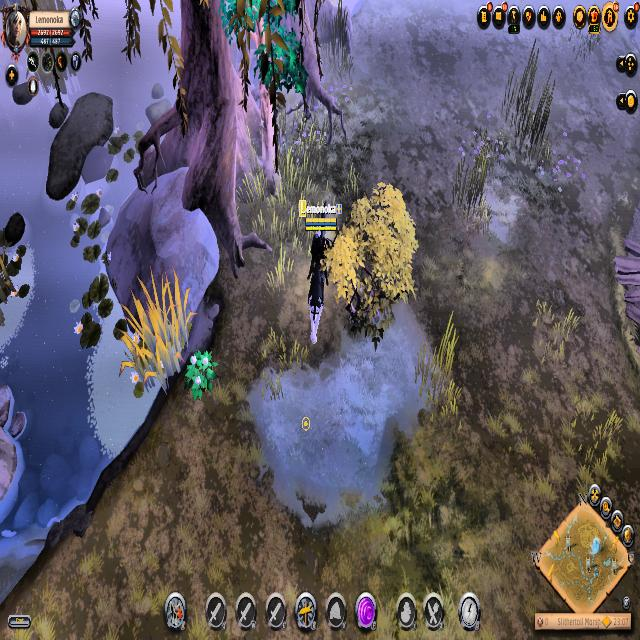fiber tier 3: (184, 349, 219, 402)
